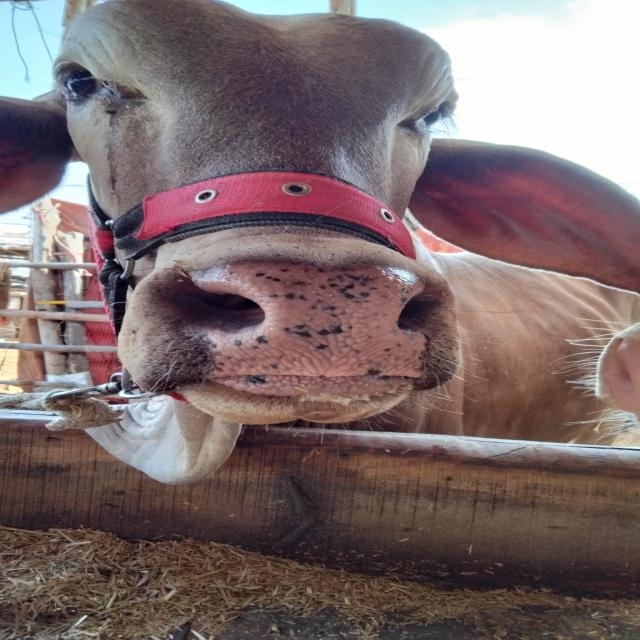muzzles: (144, 248, 458, 390)
